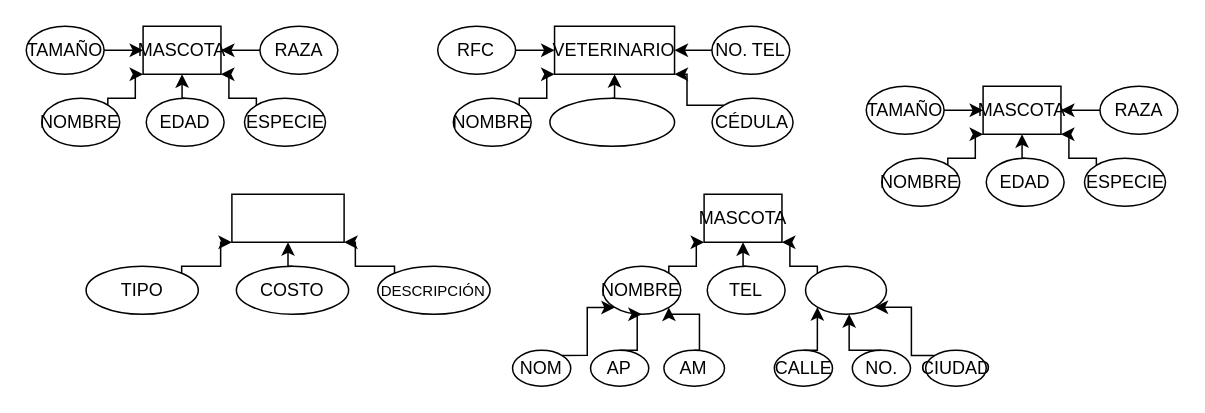
This 1205x413 diagram has some shape labels left out. Each missing label, with the centre of its shape:
"DREC." belongs at (845,289).
"ESPECIALIDAD" belongs at (611,121).
"SERVICIO" belongs at (287,217).
